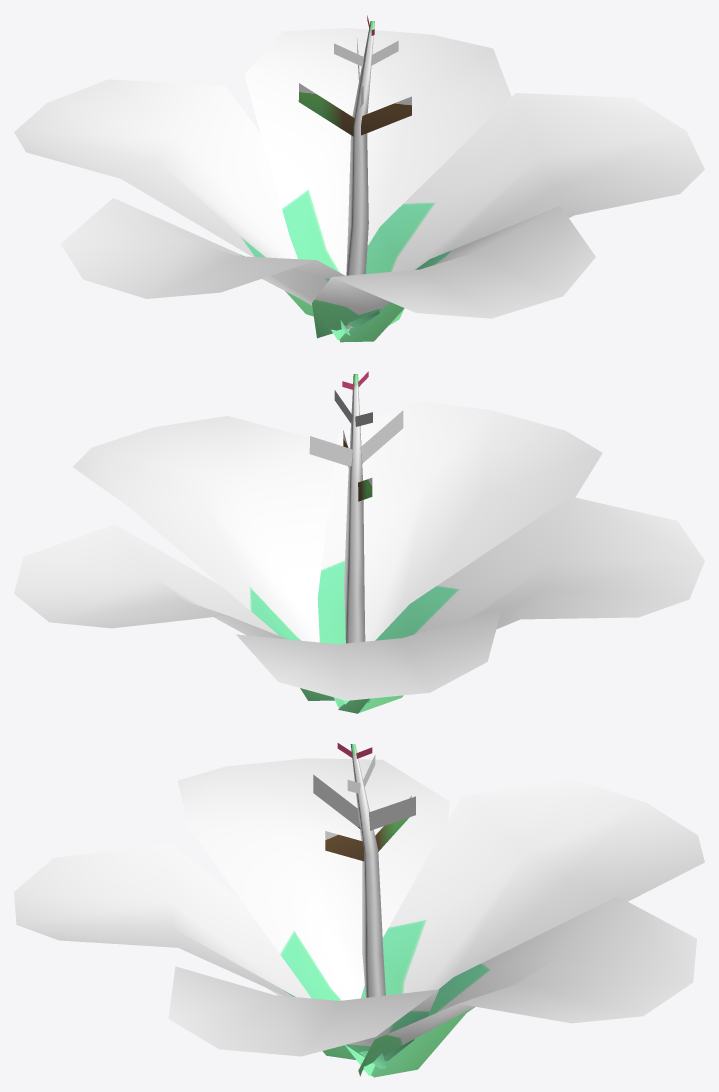
The model's file is HibiscusFlower.fbx.
3 renders of one model, top to bottom at view 1: azimuth 30°, elevation 25°; view 2: azimuth 150°, elevation 25°; view 3: azimuth 270°, elevation 25°, orthographic. The views are drawn at different scales.
Parts seen in each view (by area): view 1: Plane.009, Cylinder.001, Plane.016, Plane.015; view 2: Plane.009, Cylinder.001, Plane.016, Plane.015; view 3: Plane.009, Cylinder.001, Plane.016, Plane.015.
Boxes of the visible parts, left/top/right/bottom form: Plane.009: left=14, top=28, right=704, bottom=342; Cylinder.001: left=345, top=21, right=374, bottom=328; Plane.016: left=298, top=15, right=411, bottom=136; Plane.015: left=299, top=21, right=411, bottom=135; Plane.009: left=14, top=401, right=704, bottom=713; Cylinder.001: left=344, top=374, right=365, bottom=643; Plane.016: left=309, top=371, right=403, bottom=501; Plane.015: left=309, top=372, right=402, bottom=499; Plane.009: left=14, top=758, right=704, bottom=1077; Cylinder.001: left=350, top=744, right=385, bottom=1063; Plane.016: left=313, top=743, right=415, bottom=861; Plane.015: left=313, top=744, right=415, bottom=860.
Bounding box in the file's own units: 40.86 × 20.85 × 39.5.
